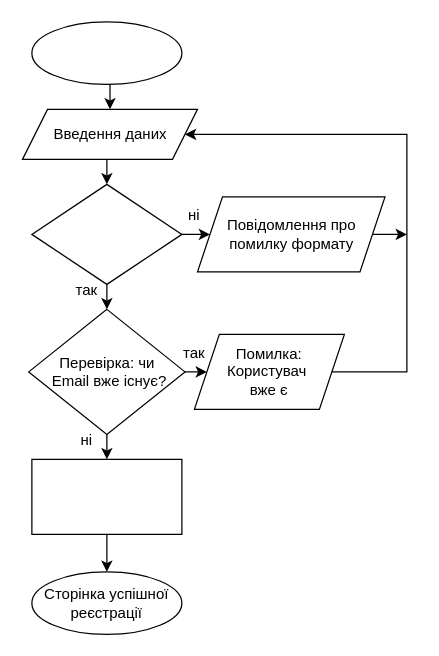
This 439x656 diagram has some shape labels left out. The centre of each missing label's shape, as x and y in pixels:
Валідація формату (Password/Email): the point at 106,233
Запис даних у базу та шифрування пароля: the point at 106,496
Початок: the point at 106,52
